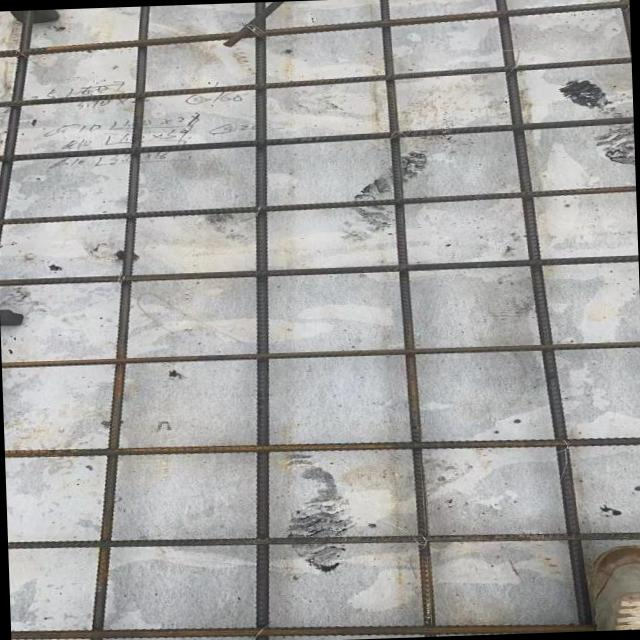ribbed bar: (66, 5, 172, 640), (492, 0, 595, 632), (376, 0, 438, 636), (0, 0, 628, 58), (230, 1, 286, 640), (0, 57, 630, 108), (0, 114, 632, 162), (2, 184, 635, 225), (7, 517, 640, 558), (4, 426, 640, 466), (0, 253, 636, 285), (1, 339, 639, 369), (11, 610, 578, 640), (0, 10, 45, 257)
